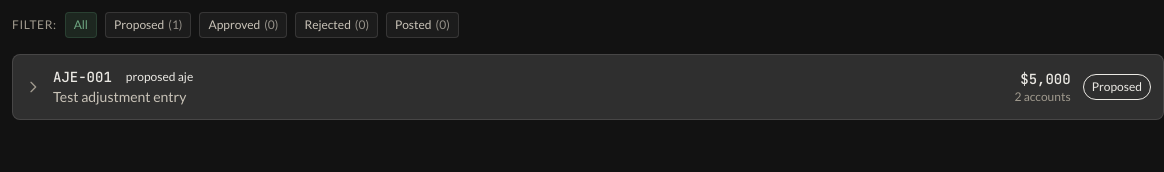
Test case: AdjustmentList › shows "no entries with status" when filter yields no results
Click the button "Rejected(0)" at (337, 25), box x1=295 y1=12 x2=378 y2=38
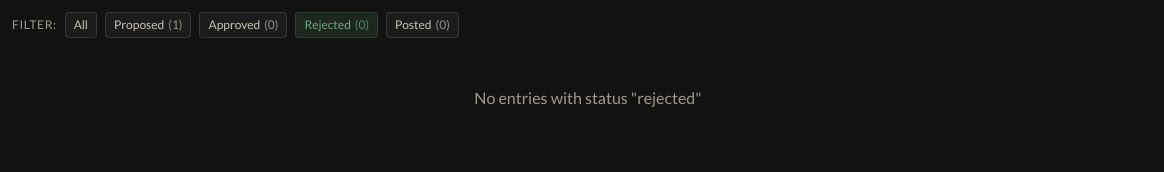
Expected: the text "No entries with status \"rejected\"" is shown, x1=474 y1=88 x2=702 y2=107
